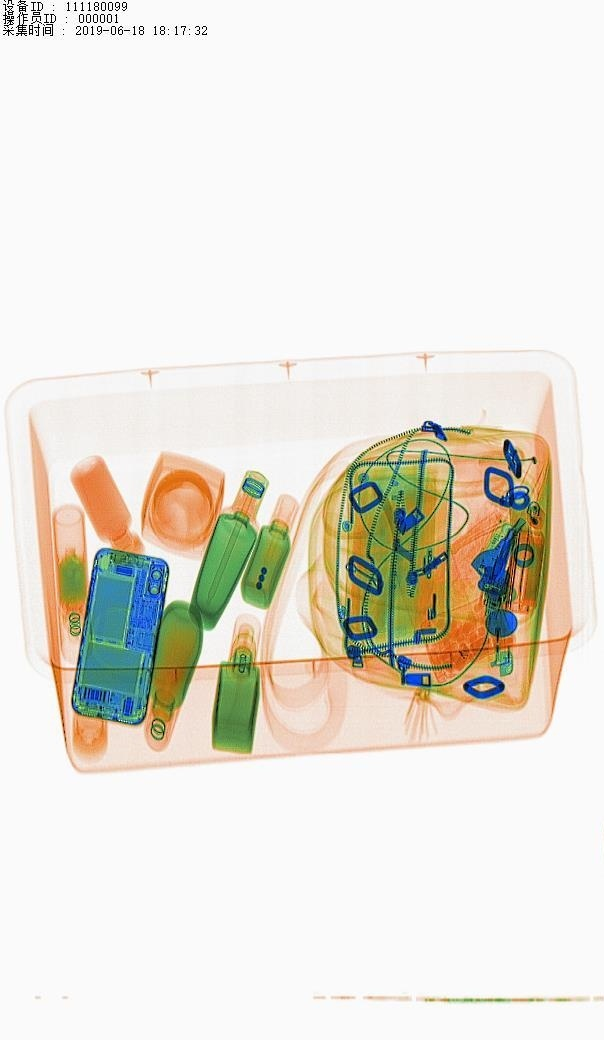NonmetallicFire: (486, 556, 517, 685), (518, 500, 556, 543)
